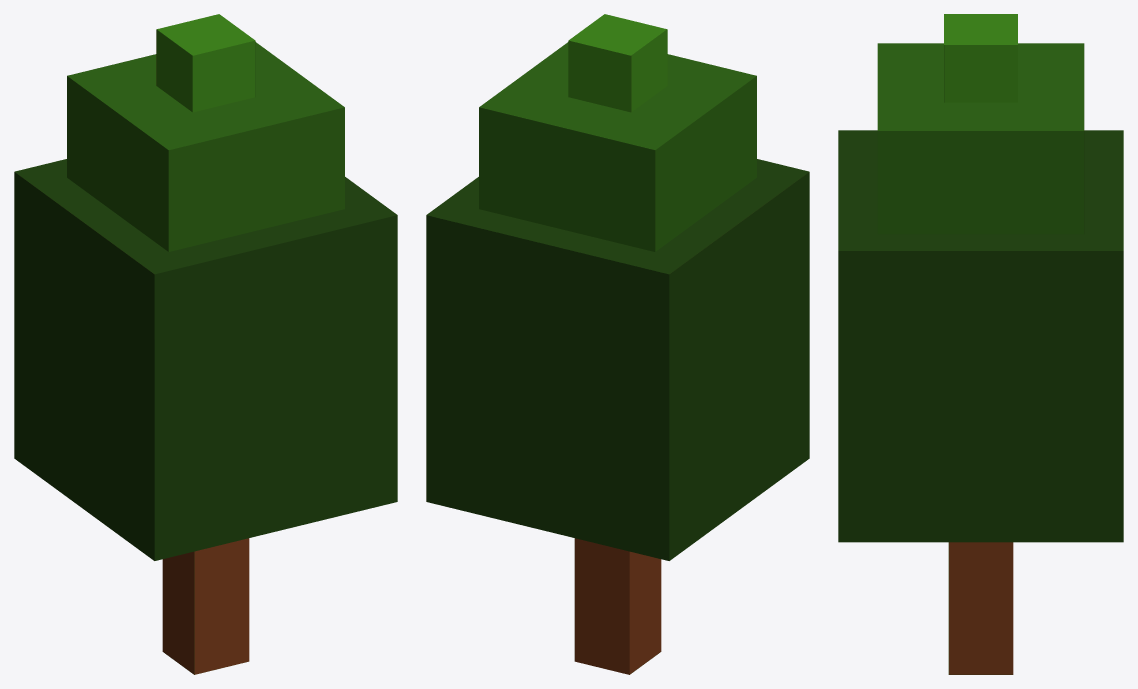
The model's file is tree2.fbx.
3 views of the same model, side by side, from view 1: azimuth 30°, elevation 25°; view 2: azimuth 150°, elevation 25°; view 3: azimuth 270°, elevation 25° (orthographic).
Parts seen in each view (by area): view 1: tree2; view 2: tree2; view 3: tree2.
Part boxes in pixels (x1=…): tree2: x1=14, y1=14, x2=397, y2=674; tree2: x1=426, y1=14, x2=809, y2=674; tree2: x1=838, y1=14, x2=1123, y2=674.
Size of the model in its own units: 169 by 414 by 169.
Materials: 1 (1 with a texture image).
